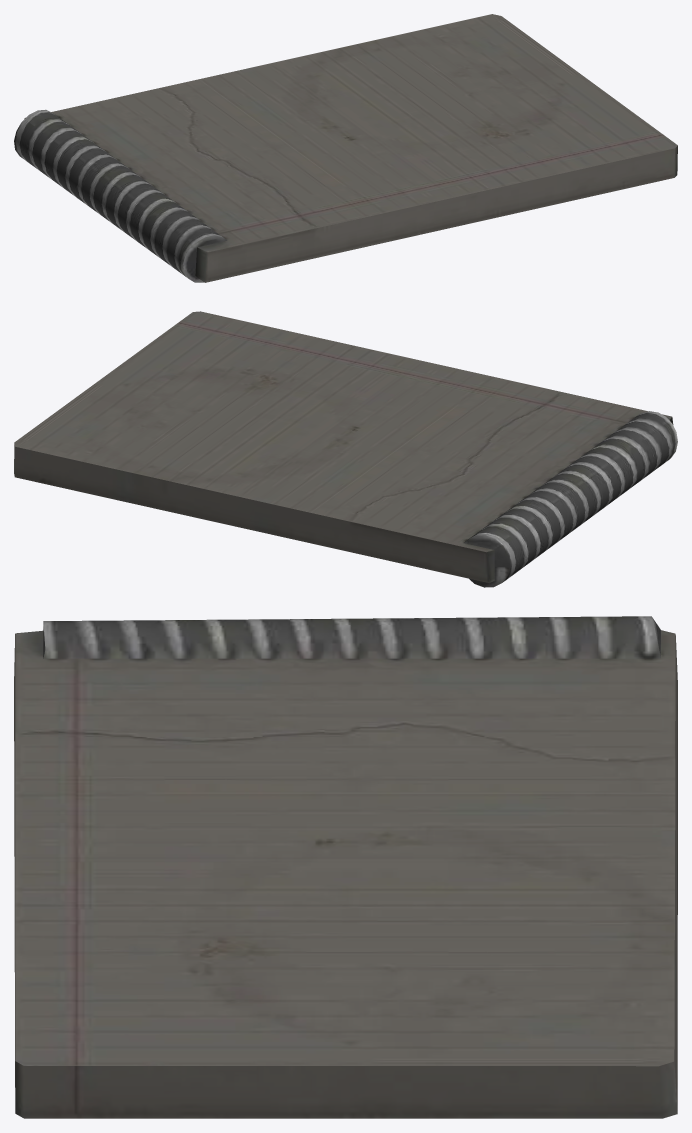
The model's file is notepad.glb.
3 renders of one model, top to bottom at view 1: azimuth 30°, elevation 25°; view 2: azimuth 150°, elevation 25°; view 3: azimuth 270°, elevation 25°, orthographic. The views are drawn at different scales.
Visible parts, largest first — view 1: notepad; view 2: notepad; view 3: notepad.
Part boxes in pixels (box(x1,y1,x2,y2)): notepad: box(14, 14, 677, 282); notepad: box(14, 311, 677, 587); notepad: box(14, 616, 677, 1118).
Bounding box in the file's own units: 0.2317 × 0.0225 × 0.1513.
Materials: 1 (1 with a texture image).
